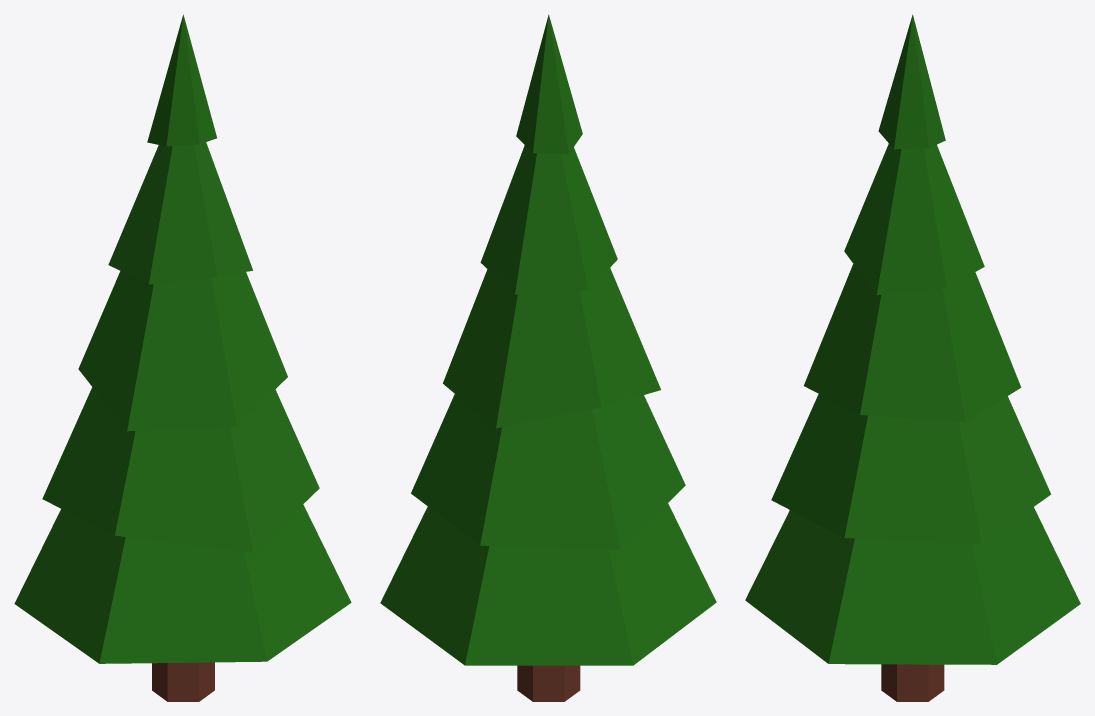
Rendered from PineM.glb.
The picture shows the model from 3 angles, left to right: view 1: azimuth 30°, elevation 25°; view 2: azimuth 150°, elevation 25°; view 3: azimuth 270°, elevation 25°; orthographic projection.
Visible parts, largest first — view 1: Cylinder.003, Cylinder.002; view 2: Cylinder.003, Cylinder.002; view 3: Cylinder.003, Cylinder.002.
Part boxes in pixels (box(x1,y1,x2,y2)): Cylinder.003: box(14, 14, 351, 663); Cylinder.002: box(152, 662, 214, 701); Cylinder.003: box(380, 14, 716, 665); Cylinder.002: box(517, 665, 580, 701); Cylinder.003: box(745, 14, 1080, 664); Cylinder.002: box(881, 664, 944, 701).
Bounding box in the file's own units: 3.9 × 9.95 × 4.48.
